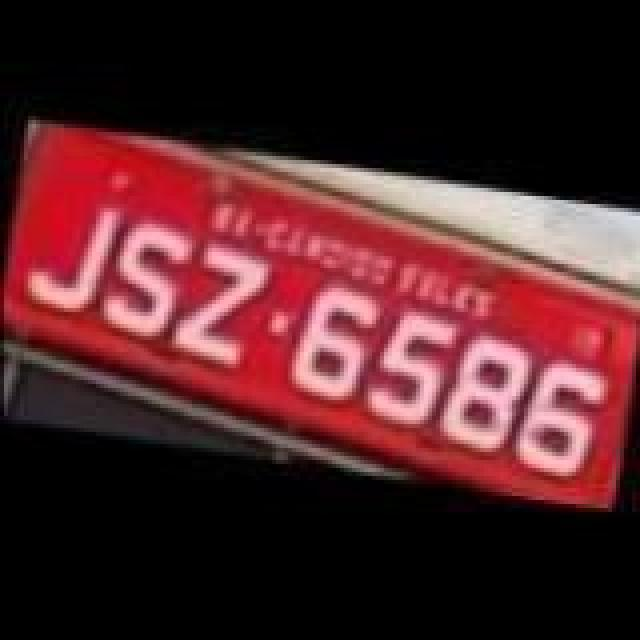5: (358, 302, 462, 434)
6: (504, 356, 616, 484), (286, 276, 390, 408)
8: (440, 328, 536, 464)
J: (10, 192, 126, 328)
S: (100, 212, 200, 344)
Z: (158, 242, 278, 374)
